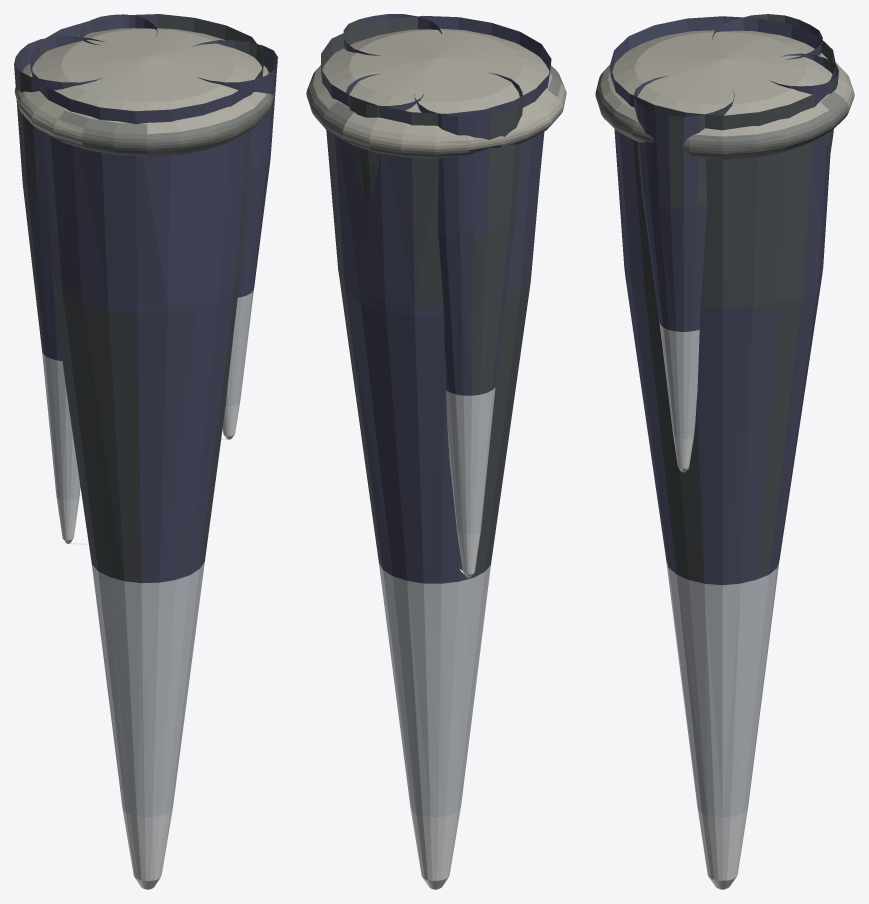
File: Stalactite.obj
3 renders of one model, left to right at view 1: azimuth 30°, elevation 25°; view 2: azimuth 150°, elevation 25°; view 3: azimuth 270°, elevation 25°, orthographic.
Bounding box in the file's own units: 2.01 × 7.05 × 2.
